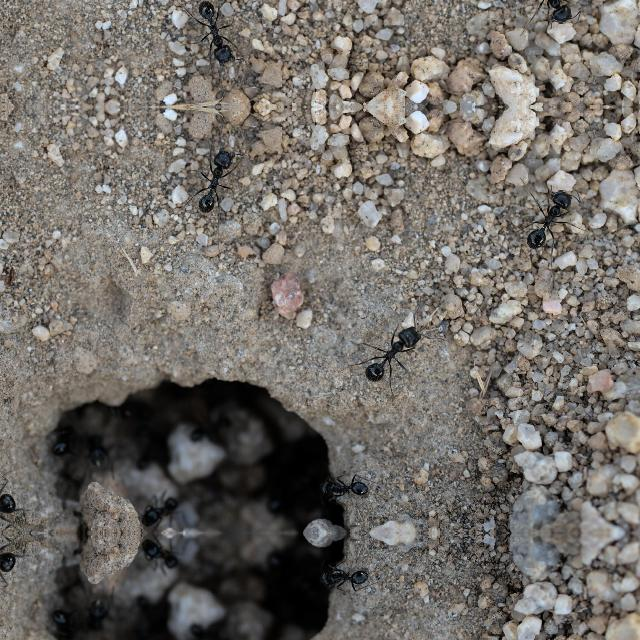Messor: (146, 125, 250, 218), (145, 0, 250, 86), (342, 312, 434, 392), (508, 175, 584, 262), (316, 466, 382, 509), (507, 0, 584, 36), (316, 556, 382, 598), (130, 489, 178, 531), (130, 534, 178, 576), (79, 429, 117, 475), (79, 590, 117, 636), (260, 486, 302, 516), (260, 549, 302, 579), (0, 480, 24, 530), (0, 535, 24, 585), (46, 598, 74, 636), (46, 429, 74, 466)
